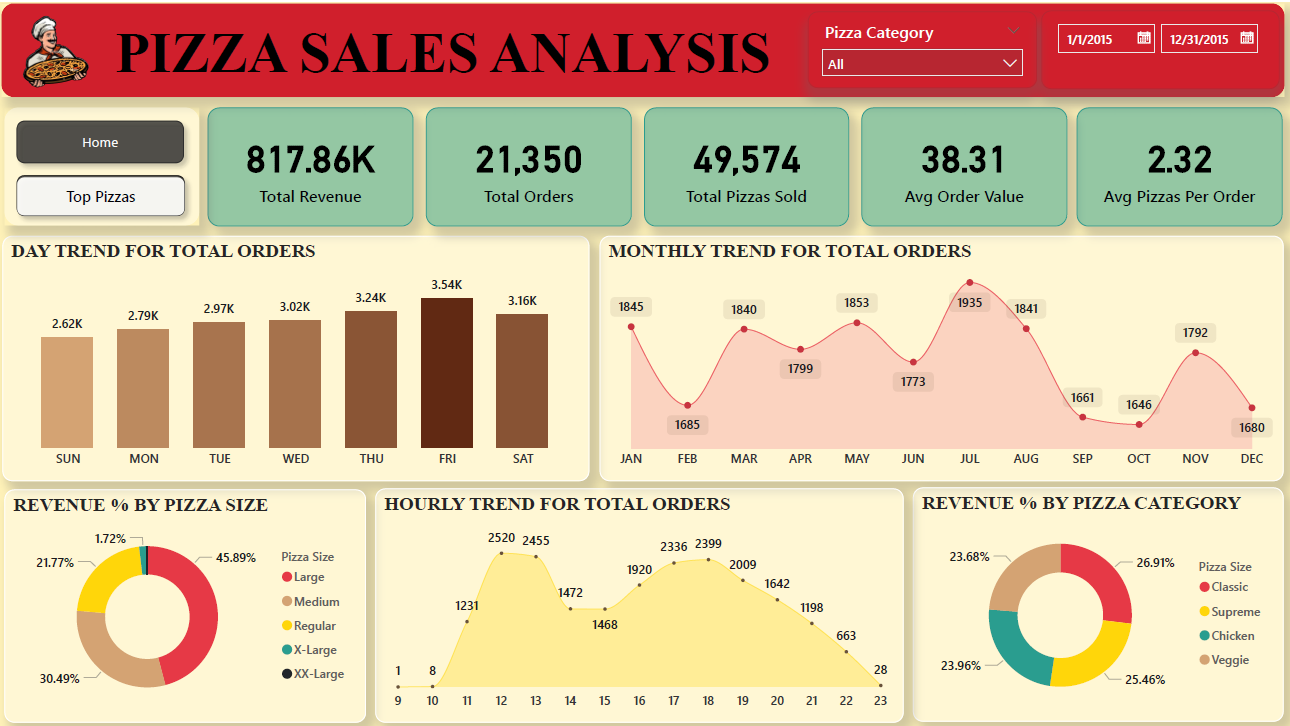

This screenshot's page, from the dashboard's own definition file:
{"tool":"powerbi","page":{"name":"Home","canvas":[1280,720],"ordinal":0},"visuals":[{"type":"shape","box":[4.3,1.4,1270,92.9],"z":0},{"type":"card","fields":{"Values":["Measure.total_revenue"]},"box":[208.2,103.6,203.9,118.2],"z":1000},{"type":"textbox","box":[88.5,13,703.5,90],"z":2000},{"type":"image","box":[4.5,1.8,101.8,92.7],"z":3000},{"type":"slicer","fields":{"Values":["pizza_sales.order_date"]},"box":[1032.7,8.4,236.5,77.2],"z":4000},{"type":"slicer","fields":{"Values":["pizza_sales.pizza_category"]},"box":[802,8.7,227.3,76.7],"z":5000},{"type":"clusteredColumnChart","title":"DAY TREND FOR TOTAL ORDERS","fields":{"Category":["pizza_sales.Order_Day_Name"],"Y":["Measure.total_orders"]},"box":[5,231.2,581.2,242.5],"z":6000},{"type":"card","fields":{"Values":["Measure.total_orders"]},"box":[424.1,103.6,203.9,118.2],"z":7000},{"type":"card","fields":{"Values":["Measure.total_pizzas_sold"]},"box":[640,104,203.3,117.5],"z":8000},{"type":"card","fields":{"Values":["Measure.average_order_value"]},"box":[855,104,204.2,117.5],"z":9000},{"type":"card","fields":{"Values":["Measure.average_pizzas_per_order"]},"box":[1068.3,104.2,203.3,117.5],"z":10000},{"type":"lineChart","title":"MONTHLY TREND FOR TOTAL ORDERS","fields":{"Y":["Measure.total_orders"],"Category":["pizza_sales.Order_Month_Name"]},"box":[596.2,231.2,676.2,242.5],"z":11000},{"type":"donutChart","title":"REVENUE % BY PIZZA SIZE","fields":{"Category":["pizza_sales.pizza_size"],"Y":["Measure.total_revenue"]},"box":[6.9,481.5,358.5,231.5],"z":12000},{"type":"shape","box":[6.9,104.4,193.1,116.9],"z":13000},{"type":"donutChart","title":"REVENUE % BY PIZZA CATEGORY","fields":{"Y":["Measure.total_revenue"],"Category":["pizza_sales.pizza_category"]},"box":[905.6,480,367.8,232.2],"z":14000},{"type":"lineChart","title":"HOURLY TREND FOR TOTAL ORDERS","fields":{"Y":["Measure.total_orders"],"Category":["pizza_sales.Hour"]},"box":[374.4,481.1,522.2,232.2],"z":15000},{"type":"pageNavigator","box":[10.5,107.6,184.3,61],"z":16000},{"type":"pageNavigator","box":[10.4,162.5,185.6,58.8],"z":17000}]}

Visuals, with their boxes in screenshot pixels (x1, y1, x2, y2), scaled from the page's 1280x720 canvas onto the 1290x726 screenshot:
shape: region(4, 1, 1284, 95)
card - Measure.total_revenue: region(210, 104, 415, 224)
textbox: region(89, 13, 798, 104)
image: region(5, 2, 107, 95)
slicer - pizza_sales.order_date: region(1041, 8, 1279, 86)
slicer - pizza_sales.pizza_category: region(808, 9, 1037, 86)
"DAY TREND FOR TOTAL ORDERS" clusteredColumnChart: region(5, 233, 591, 478)
card - Measure.total_orders: region(427, 104, 633, 224)
card - Measure.total_pizzas_sold: region(645, 105, 850, 223)
card - Measure.average_order_value: region(862, 105, 1067, 223)
card - Measure.average_pizzas_per_order: region(1077, 105, 1282, 224)
"MONTHLY TREND FOR TOTAL ORDERS" lineChart: region(601, 233, 1282, 478)
"REVENUE % BY PIZZA SIZE" donutChart: region(7, 486, 368, 719)
shape: region(7, 105, 202, 223)
"REVENUE % BY PIZZA CATEGORY" donutChart: region(913, 484, 1283, 718)
"HOURLY TREND FOR TOTAL ORDERS" lineChart: region(377, 485, 904, 719)
pageNavigator: region(11, 108, 196, 170)
pageNavigator: region(10, 164, 198, 223)
